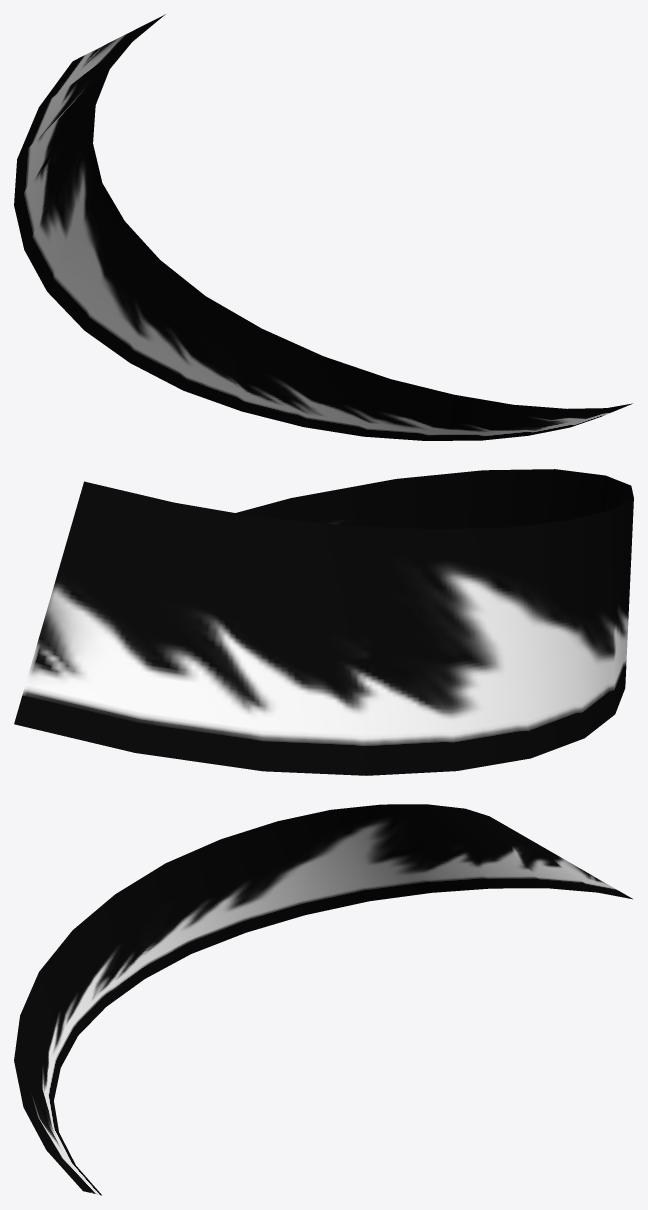
3 renders of one model, top to bottom at view 1: azimuth 30°, elevation 25°; view 2: azimuth 150°, elevation 25°; view 3: azimuth 270°, elevation 25°, orthographic. The views are drawn at different scales.
Visible parts, largest first — view 1: Mesh_Plane_004; view 2: Mesh_Plane_004; view 3: Mesh_Plane_004.
Boxes of the visible parts, x1,y1,x2,y2 form: Mesh_Plane_004: (14, 14, 632, 440); Mesh_Plane_004: (14, 469, 633, 775); Mesh_Plane_004: (14, 804, 632, 1195).
Bounding box in the file's own units: 150 × 97.49 × 202.
1 material, 1 textured.
